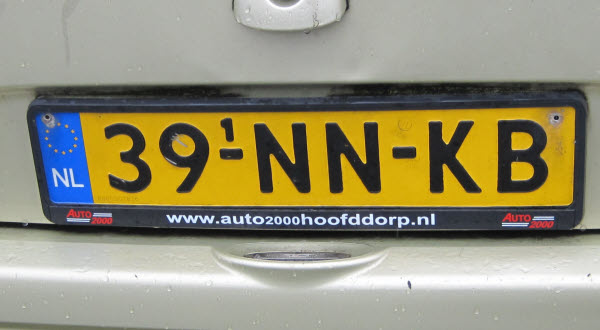license_plate: (33, 105, 577, 209)
